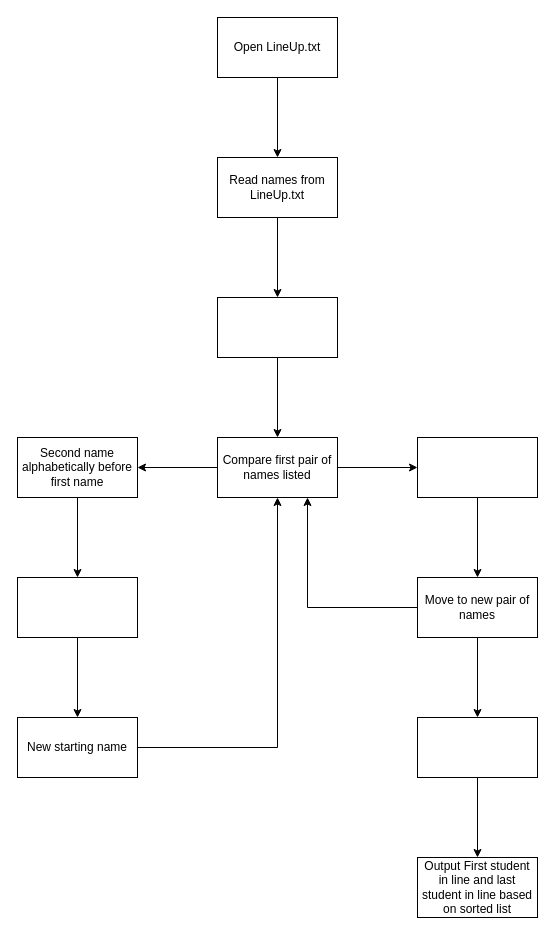
Image size: 555x935. Some labels were removed from this diagram. The centre of each missing label's shape, as x and y in pixels:
"Check first name" belongs at pixel 277 327.
"First name alphabetically before second name" belongs at pixel 477 467.
"Output number of students" belongs at pixel 477 747.
"Swap first and second names" belongs at pixel 77 607.
